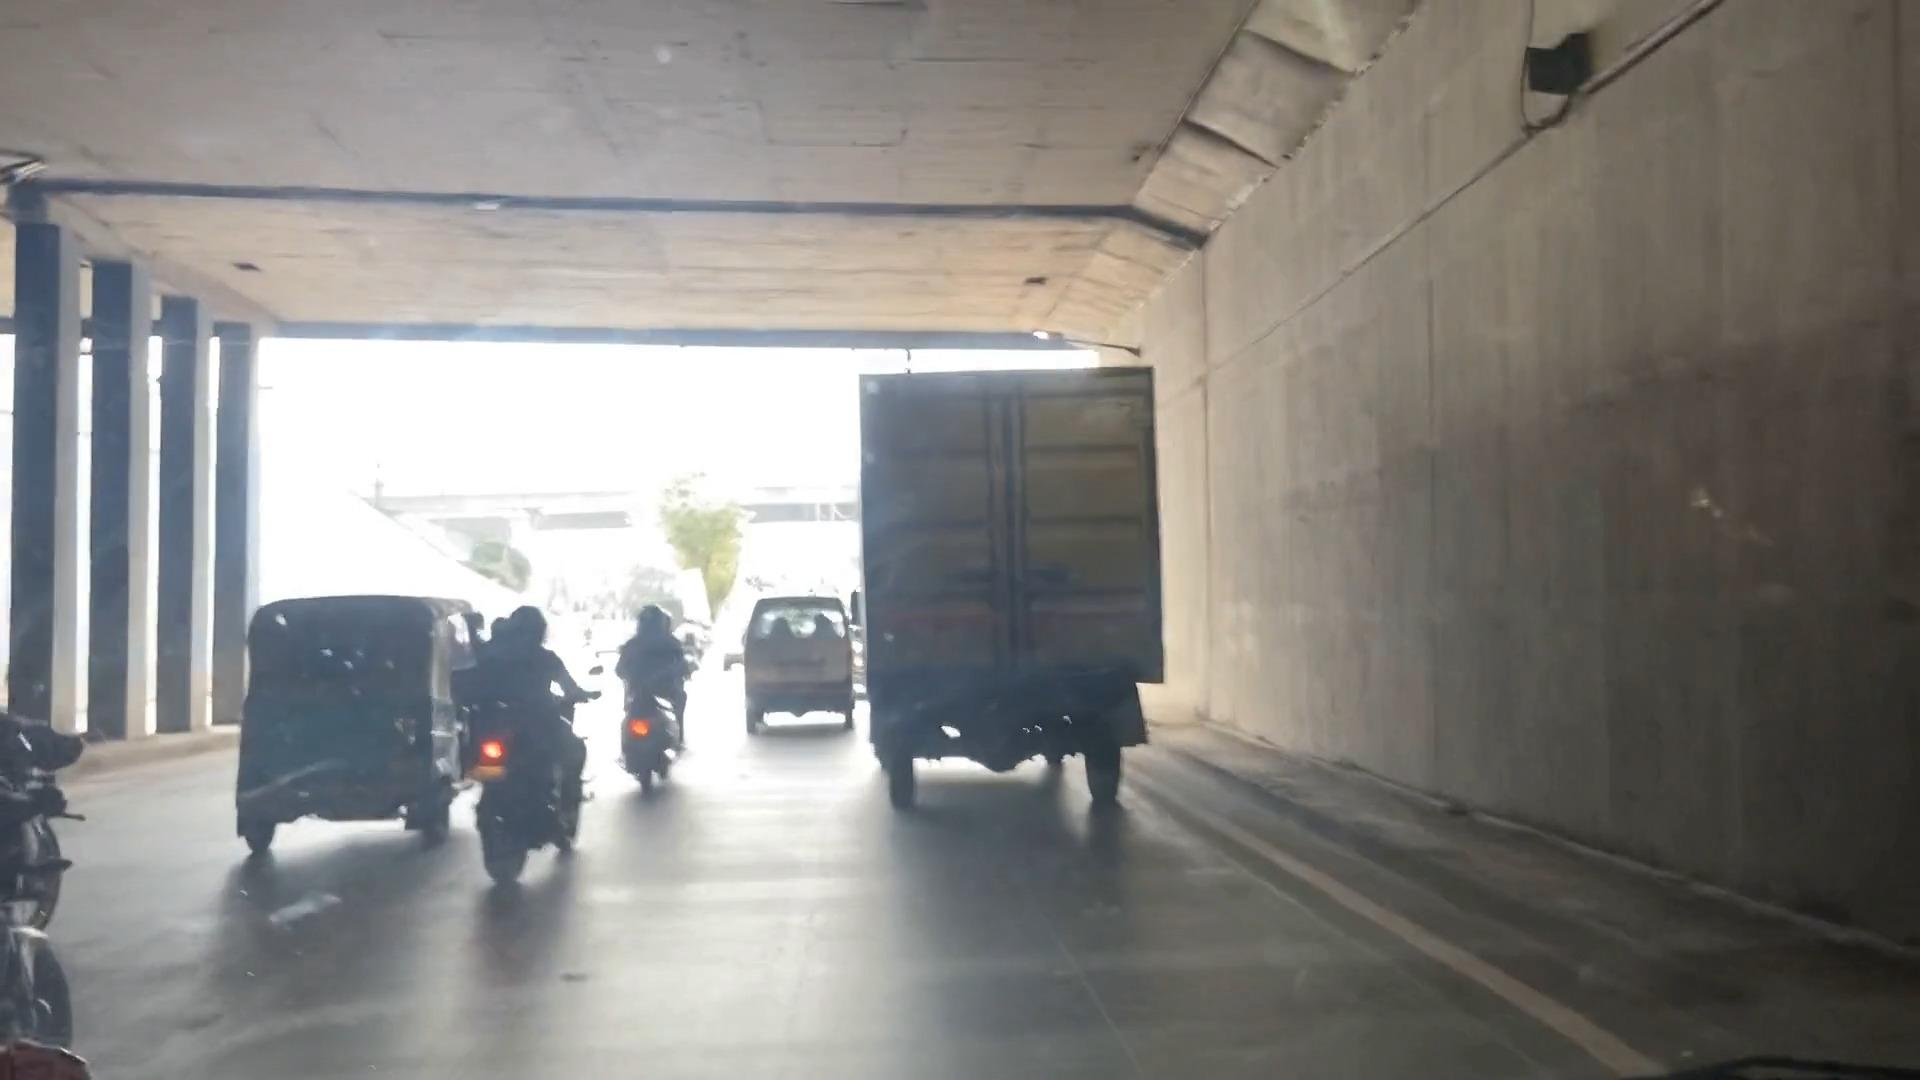HMV: (847, 373, 1195, 807)
LMV: (471, 597, 590, 891), (753, 597, 859, 744), (623, 593, 692, 791)
